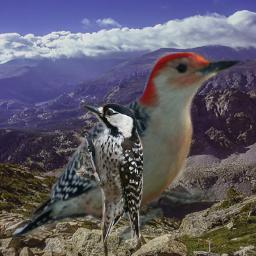Woodpecker: (12, 52, 245, 240), (74, 102, 143, 246)
